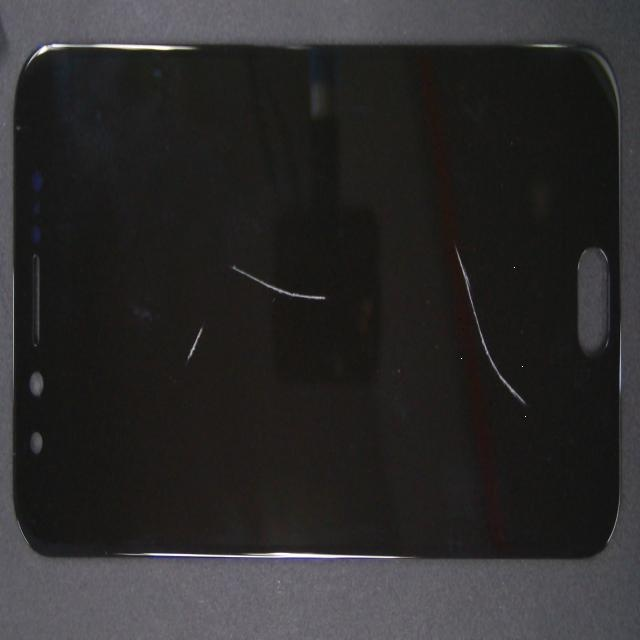scratch: (187, 53, 640, 487), (191, 145, 472, 428), (111, 167, 307, 477)
